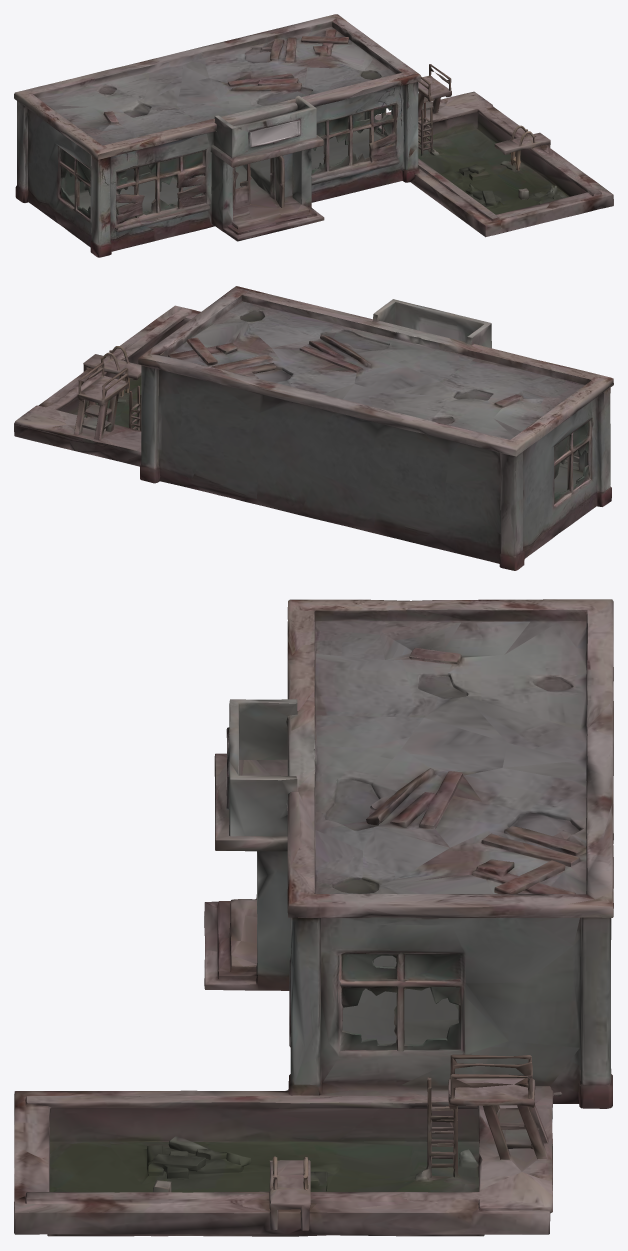
Rendered from warehouse_idle.glb.
3 views of the same model, one above another, from view 1: azimuth 30°, elevation 25°; view 2: azimuth 150°, elevation 25°; view 3: azimuth 270°, elevation 25° (orthographic). The views are drawn at different scales.
Visible parts, largest first — view 1: tripo_node_b94b88fb-a91a-4a40-a034-16340e646056; view 2: tripo_node_b94b88fb-a91a-4a40-a034-16340e646056; view 3: tripo_node_b94b88fb-a91a-4a40-a034-16340e646056.
Part boxes in pixels (<box>): tripo_node_b94b88fb-a91a-4a40-a034-16340e646056: <box>14,14,613,257</box>; tripo_node_b94b88fb-a91a-4a40-a034-16340e646056: <box>14,286,613,570</box>; tripo_node_b94b88fb-a91a-4a40-a034-16340e646056: <box>14,599,613,1236</box>.
Size of the model in its own units: 14 by 3.73 by 8.34.
Materials: 1 (1 with a texture image).
